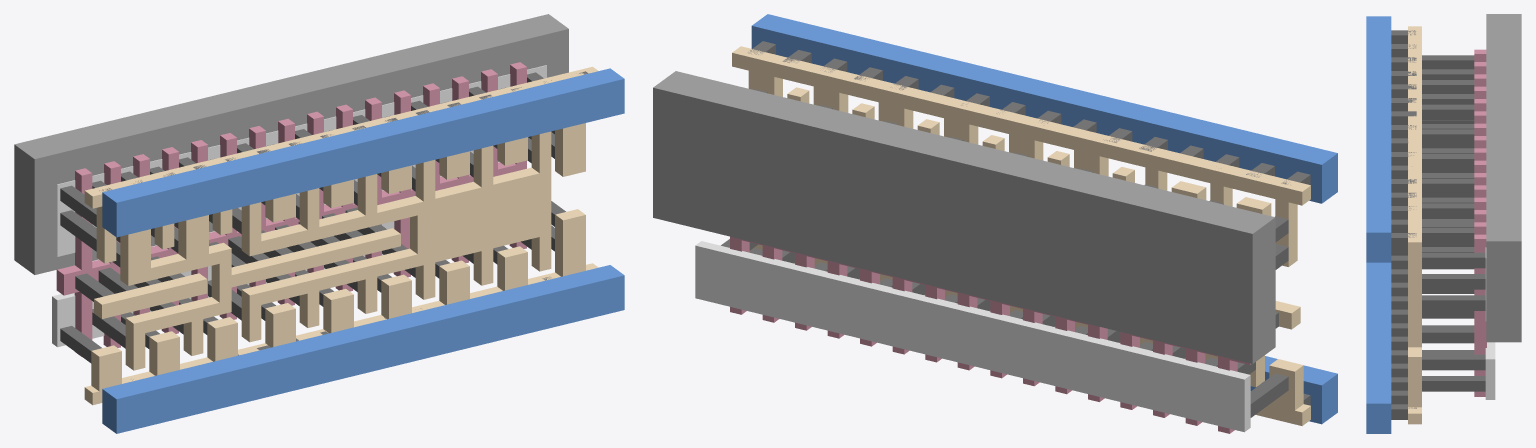
The model's file is sky130_fd_sc_hd__buf_12.gds.gltf.
The picture shows the model from 3 angles, left to right: view 1: azimuth 30°, elevation 25°; view 2: azimuth 150°, elevation 25°; view 3: azimuth 270°, elevation 25°; orthographic projection. The views are drawn at different scales.
Visible parts, largest first — view 1: sky130_fd_sc_hd__buf_12_li1, sky130_fd_sc_hd__buf_12_met1, sky130_fd_sc_hd__buf_12_nwell, sky130_fd_sc_hd__buf_12_poly, sky130_fd_sc_hd__buf_12_licon, sky130_fd_sc_hd__buf_12_diff, sky130_fd_sc_hd__buf_12_mcon; view 2: sky130_fd_sc_hd__buf_12_nwell, sky130_fd_sc_hd__buf_12_diff, sky130_fd_sc_hd__buf_12_li1, sky130_fd_sc_hd__buf_12_met1, sky130_fd_sc_hd__buf_12_poly, sky130_fd_sc_hd__buf_12_licon, sky130_fd_sc_hd__buf_12_mcon; view 3: sky130_fd_sc_hd__buf_12_licon, sky130_fd_sc_hd__buf_12_nwell, sky130_fd_sc_hd__buf_12_met1, sky130_fd_sc_hd__buf_12_mcon, sky130_fd_sc_hd__buf_12_li1, sky130_fd_sc_hd__buf_12_poly, sky130_fd_sc_hd__buf_12_diff.
Boxes of the visible parts, box(x1,y1,x2,y2) form: sky130_fd_sc_hd__buf_12_li1: box(84, 66, 598, 405); sky130_fd_sc_hd__buf_12_met1: box(102, 68, 624, 433); sky130_fd_sc_hd__buf_12_nwell: box(14, 14, 568, 274); sky130_fd_sc_hd__buf_12_poly: box(56, 62, 526, 356); sky130_fd_sc_hd__buf_12_licon: box(60, 72, 565, 363); sky130_fd_sc_hd__buf_12_diff: box(52, 65, 546, 347); sky130_fd_sc_hd__buf_12_mcon: box(99, 71, 588, 380); sky130_fd_sc_hd__buf_12_nwell: box(653, 71, 1275, 363); sky130_fd_sc_hd__buf_12_diff: box(695, 241, 1250, 432); sky130_fd_sc_hd__buf_12_li1: box(732, 46, 1310, 425); sky130_fd_sc_hd__buf_12_met1: box(751, 14, 1337, 424); sky130_fd_sc_hd__buf_12_poly: box(730, 236, 1250, 433); sky130_fd_sc_hd__buf_12_licon: box(721, 89, 1288, 417); sky130_fd_sc_hd__buf_12_mcon: box(748, 41, 1310, 405); sky130_fd_sc_hd__buf_12_licon: box(1422, 55, 1485, 391); sky130_fd_sc_hd__buf_12_nwell: box(1486, 14, 1521, 342); sky130_fd_sc_hd__buf_12_met1: box(1366, 16, 1391, 433); sky130_fd_sc_hd__buf_12_mcon: box(1391, 30, 1416, 419); sky130_fd_sc_hd__buf_12_li1: box(1408, 26, 1421, 424); sky130_fd_sc_hd__buf_12_poly: box(1474, 49, 1486, 396); sky130_fd_sc_hd__buf_12_diff: box(1485, 247, 1495, 399).
Size of the model in its own units: 7.74 by 3.2 by 2.24.
